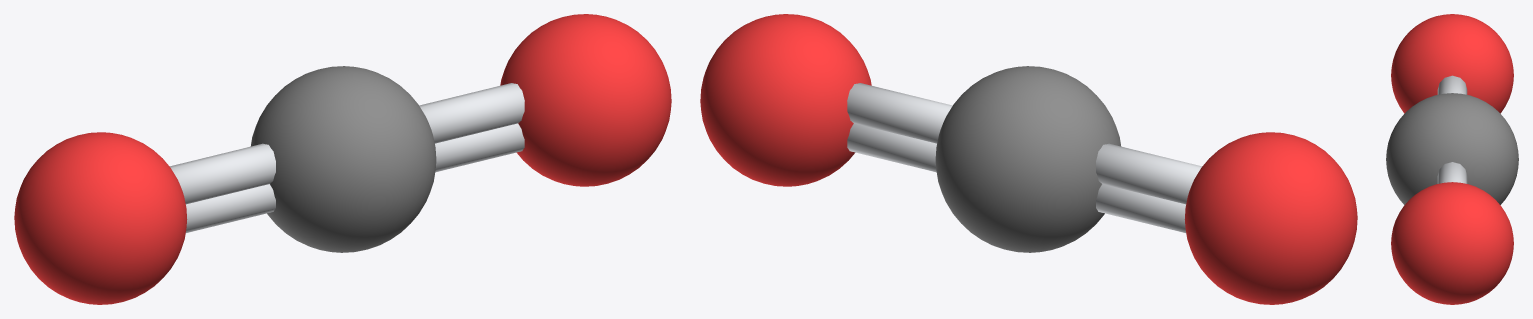
The model's file is molecule-carbon-dioxide.glb.
3 views of the same model, side by side, from view 1: azimuth 30°, elevation 25°; view 2: azimuth 150°, elevation 25°; view 3: azimuth 270°, elevation 25° (orthographic). The views are drawn at different scales.
Visible parts, largest first — view 1: carbon_1, oxygen_1, oxygen_2, bonds; view 2: carbon_1, oxygen_1, oxygen_2, bonds; view 3: oxygen_2, carbon_1, oxygen_1, bonds.
Part boxes in pixels (bbox=[...]): carbon_1: bbox=[250, 66, 436, 252]; oxygen_1: bbox=[14, 132, 187, 304]; oxygen_2: bbox=[500, 14, 671, 186]; bonds: bbox=[170, 83, 524, 232]; carbon_1: bbox=[935, 66, 1121, 252]; oxygen_1: bbox=[1184, 132, 1357, 304]; oxygen_2: bbox=[700, 14, 871, 186]; bonds: bbox=[847, 83, 1201, 232]; oxygen_2: bbox=[1391, 182, 1513, 304]; carbon_1: bbox=[1386, 93, 1518, 204]; oxygen_1: bbox=[1391, 14, 1513, 113]; bonds: bbox=[1437, 75, 1467, 183].
Bounding box in the file's own units: 0.188 × 0.048 × 0.048.
